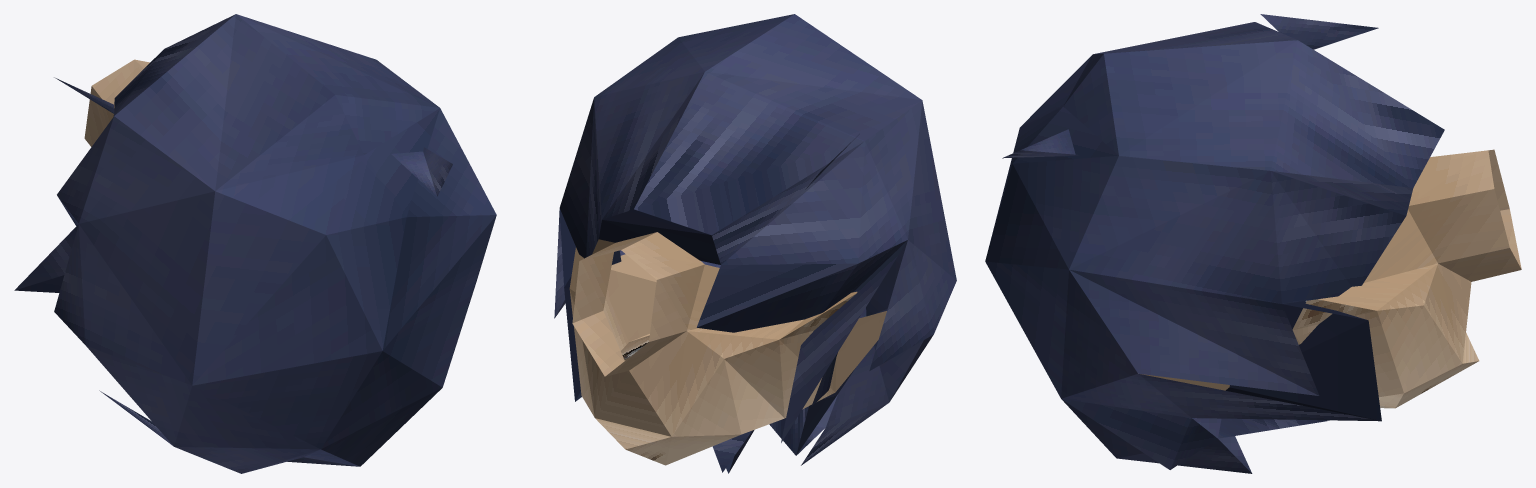
Rendered from makoto_n9.obj.
3 renders of one model, left to right at view 1: azimuth 30°, elevation 25°; view 2: azimuth 150°, elevation 25°; view 3: azimuth 270°, elevation 25°, orthographic. The views are drawn at different scales.
Size of the model in its own units: 0.2824 by 0.3085 by 0.3451.
Materials: 4 (4 with a texture image).
